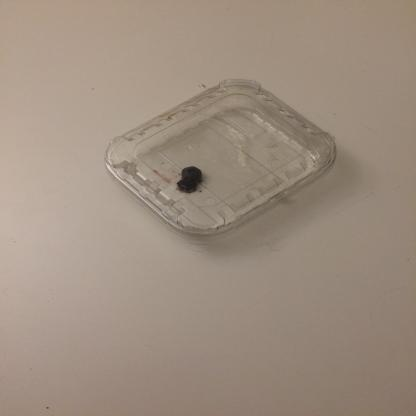trash: (93, 70, 349, 254)
